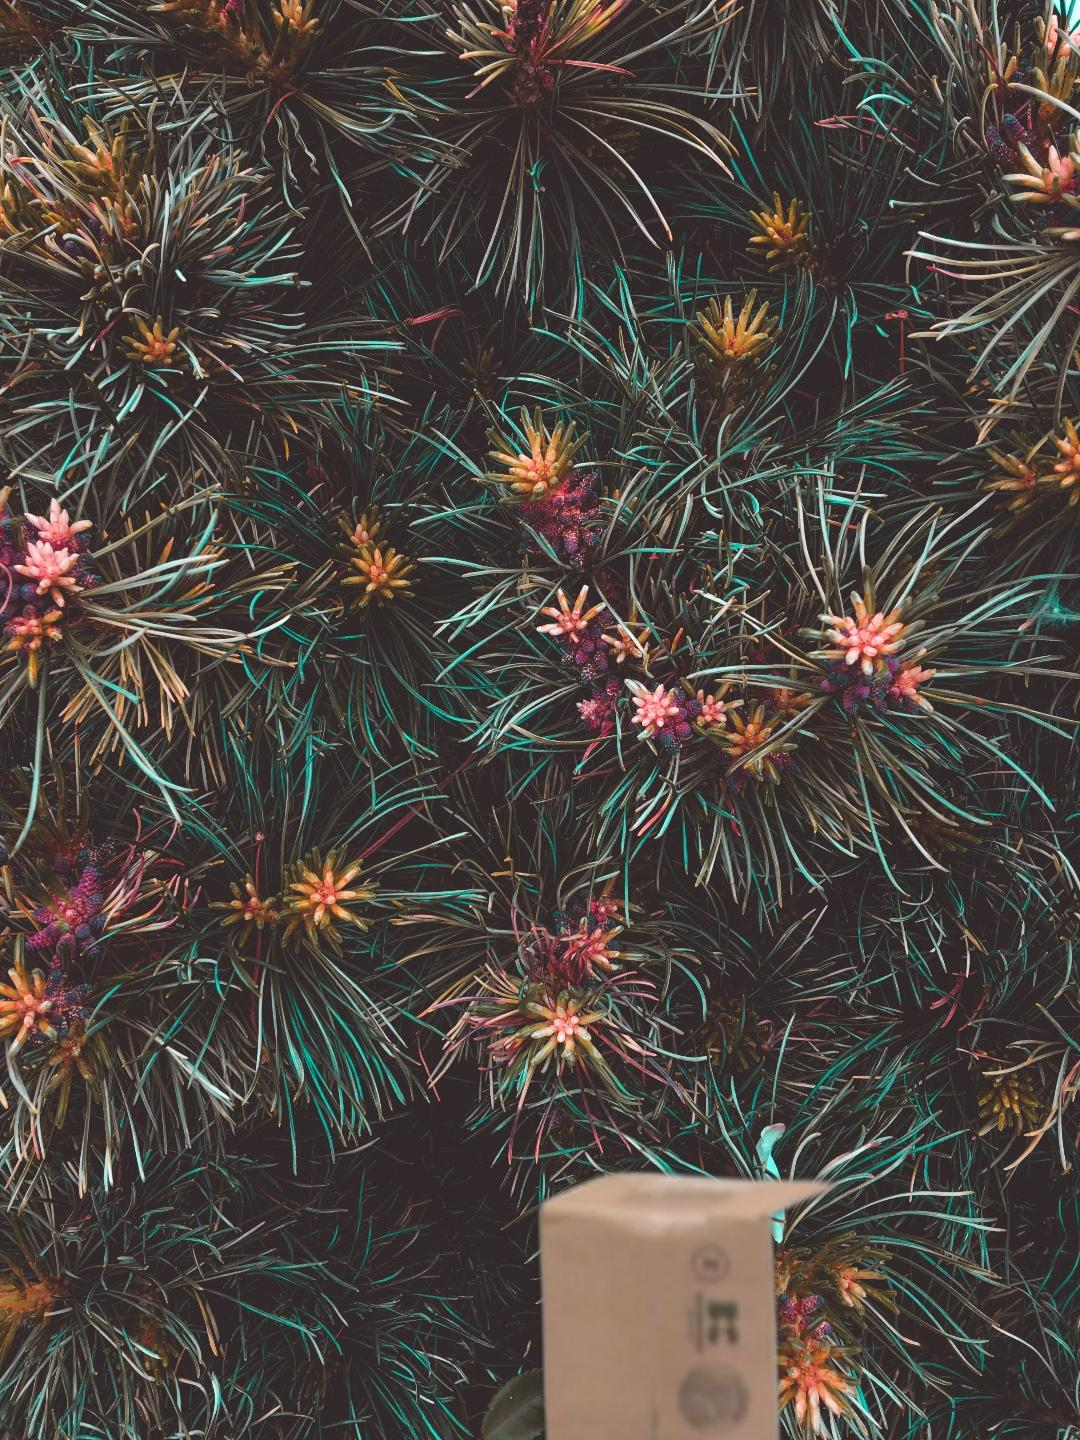trashbox-cardboard: (529, 599, 1080, 1440)
